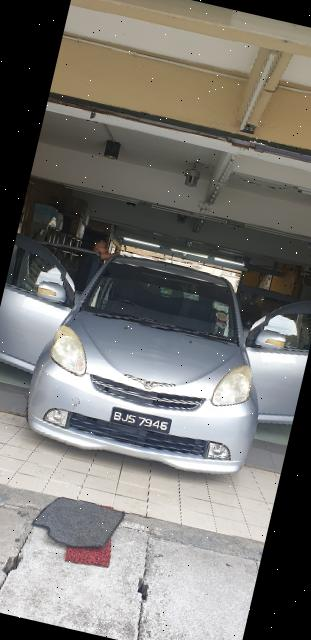License_Plate: (103, 404, 174, 442)
car: (1, 211, 311, 500)
